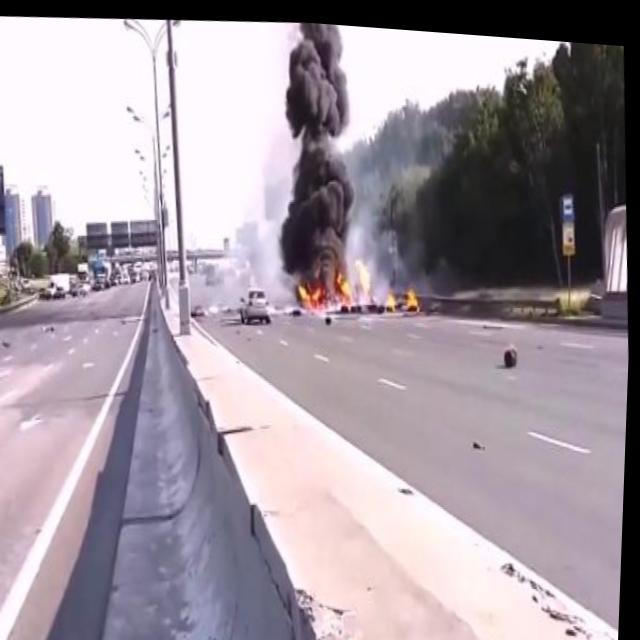fire: (296, 246, 359, 315), (355, 243, 377, 296), (405, 278, 423, 308), (384, 280, 400, 307)
